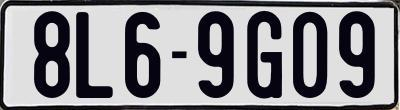0: (290, 10, 325, 101)
6: (123, 9, 158, 96)
8: (34, 11, 75, 100)
9: (197, 8, 235, 101), (337, 10, 375, 97)
G: (244, 8, 283, 99)
L: (76, 9, 116, 97)
